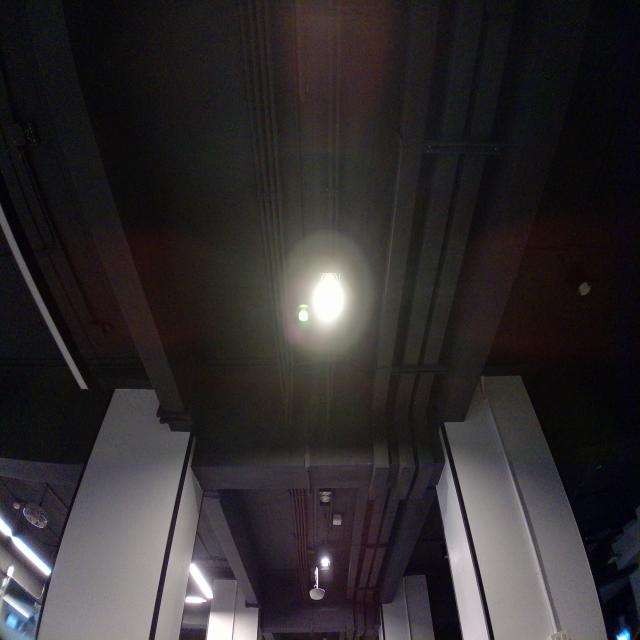lamp1_on: (302, 255, 358, 346)
